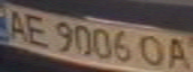0: (90, 26, 115, 61), (69, 23, 93, 57)
6: (112, 28, 136, 65)
9: (48, 19, 78, 54)
A: (160, 34, 193, 72), (0, 7, 30, 40)
E: (18, 11, 54, 48)
O: (136, 33, 169, 70)
